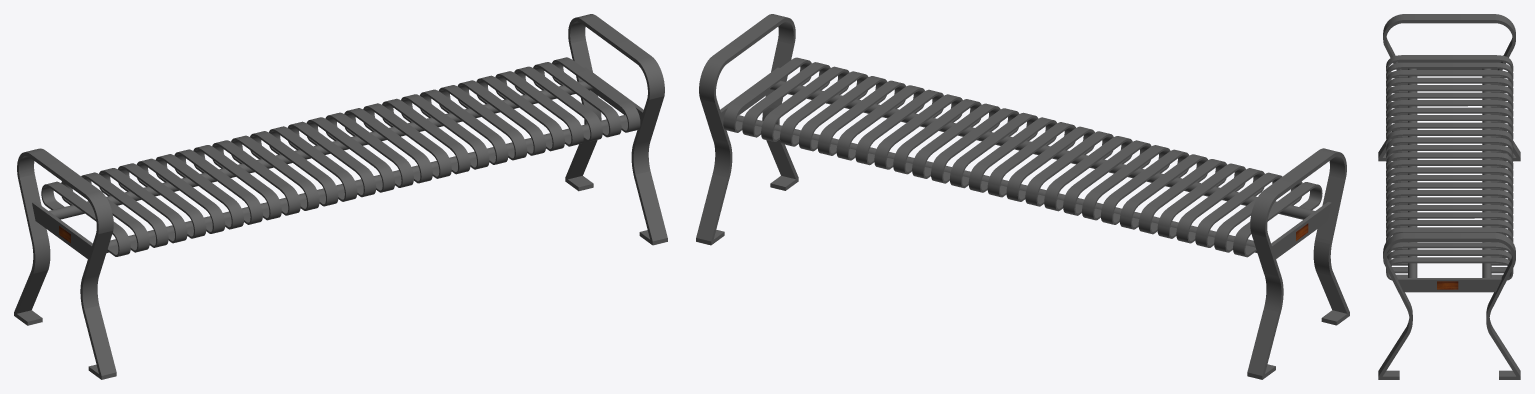
3 views of the same model, side by side, from view 1: azimuth 30°, elevation 25°; view 2: azimuth 150°, elevation 25°; view 3: azimuth 270°, elevation 25° (orthographic). The views are drawn at different scales.
Parts seen in each view (by area): view 1: mesh82_mesh82-geometry, mesh81_mesh81-geometry, mesh3_mesh3-geometry, mesh4_mesh4-geometry, mesh31_mesh31-geometry, mesh25_mesh25-geometry, mesh35_mesh35-geometry, mesh37_mesh37-geometry, mesh39_mesh39-geometry, mesh43_mesh43-geometry, mesh59_mesh59-geometry, mesh15_mesh15-geometry (+21 smaller); view 2: mesh82_mesh82-geometry, mesh81_mesh81-geometry, mesh4_mesh4-geometry, mesh3_mesh3-geometry, mesh43_mesh43-geometry, mesh45_mesh45-geometry, mesh17_mesh17-geometry, mesh47_mesh47-geometry, mesh25_mesh25-geometry, mesh39_mesh39-geometry, mesh41_mesh41-geometry, mesh59_mesh59-geometry (+21 smaller); view 3: mesh81_mesh81-geometry, mesh82_mesh82-geometry, mesh1_mesh1-geometry, mesh31_mesh31-geometry, mesh35_mesh35-geometry, mesh25_mesh25-geometry, mesh15_mesh15-geometry, mesh39_mesh39-geometry, mesh43_mesh43-geometry, mesh29_mesh29-geometry, mesh67_mesh67-geometry, mesh41_mesh41-geometry (+22 smaller).
Part boxes in pixels (x1,y1,x2,y2): mesh82_mesh82-geometry: [14, 148, 116, 379]; mesh81_mesh81-geometry: [565, 14, 667, 245]; mesh3_mesh3-geometry: [49, 80, 593, 219]; mesh4_mesh4-geometry: [106, 115, 627, 252]; mesh31_mesh31-geometry: [533, 62, 621, 137]; mesh25_mesh25-geometry: [41, 181, 130, 256]; mesh35_mesh35-geometry: [552, 57, 640, 132]; mesh37_mesh37-geometry: [382, 98, 470, 174]; mesh39_mesh39-geometry: [118, 163, 206, 238]; mesh43_mesh43-geometry: [99, 168, 187, 243]; mesh59_mesh59-geometry: [250, 131, 338, 206]; mesh15_mesh15-geometry: [401, 94, 489, 169]; mesh82_mesh82-geometry: [1247, 148, 1349, 379]; mesh81_mesh81-geometry: [696, 14, 798, 245]; mesh4_mesh4-geometry: [770, 80, 1314, 219]; mesh3_mesh3-geometry: [736, 115, 1257, 253]; mesh43_mesh43-geometry: [1176, 168, 1264, 243]; mesh45_mesh45-geometry: [987, 122, 1075, 197]; mesh17_mesh17-geometry: [817, 80, 906, 155]; mesh47_mesh47-geometry: [855, 89, 943, 165]; mesh25_mesh25-geometry: [1233, 182, 1322, 257]; mesh39_mesh39-geometry: [1157, 163, 1245, 238]; mesh41_mesh41-geometry: [1138, 159, 1226, 234]; mesh59_mesh59-geometry: [1025, 131, 1113, 206]; mesh81_mesh81-geometry: [1378, 232, 1520, 379]; mesh82_mesh82-geometry: [1378, 14, 1520, 161]; mesh1_mesh1-geometry: [1397, 278, 1501, 292]; mesh31_mesh31-geometry: [1387, 249, 1511, 273]; mesh35_mesh35-geometry: [1386, 257, 1513, 280]; mesh25_mesh25-geometry: [1386, 55, 1513, 78]; mesh15_mesh15-geometry: [1386, 197, 1513, 220]; mesh39_mesh39-geometry: [1386, 85, 1513, 108]; mesh43_mesh43-geometry: [1386, 77, 1513, 100]; mesh29_mesh29-geometry: [1386, 70, 1513, 93]; mesh67_mesh67-geometry: [1386, 182, 1513, 205]; mesh41_mesh41-geometry: [1386, 92, 1513, 115].
Size of the model in its own units: 0.9295 by 0.2725 by 0.2486.
